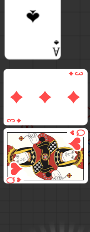3D: (6, 117, 23, 123)
AS: (52, 38, 61, 57)
QH: (58, 139, 82, 165), (4, 174, 28, 200)
